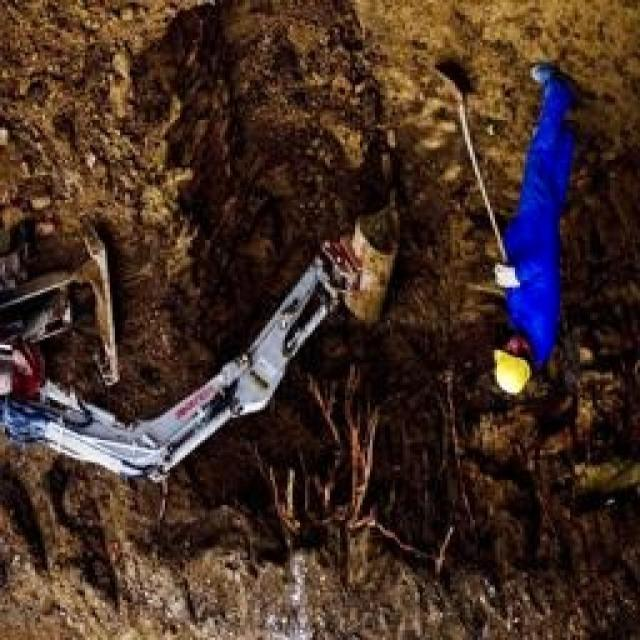Helmet: (495, 150, 570, 362), (477, 336, 542, 407)
